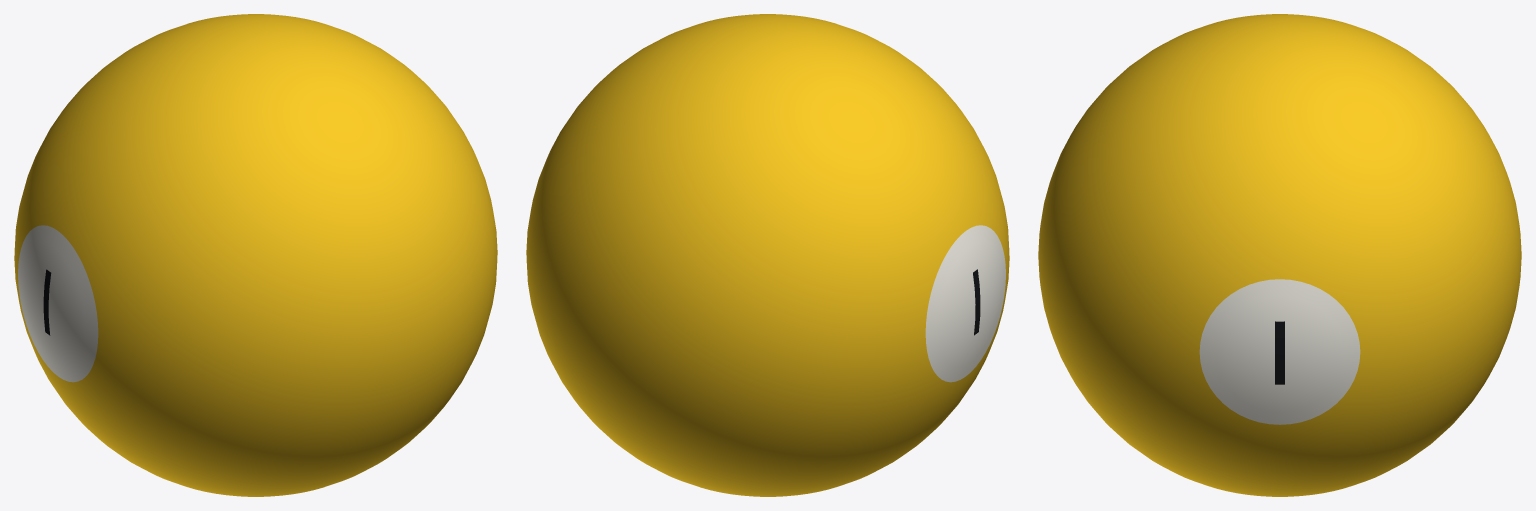
File: ball_01.glb
3 renders of one model, left to right at view 1: azimuth 30°, elevation 25°; view 2: azimuth 150°, elevation 25°; view 3: azimuth 270°, elevation 25°, orthographic.
Parts seen in each view (by area): view 1: Ball 01 | resin, Ball 01 | number medallion | opposite; view 2: Ball 01 | resin, Ball 01 | number medallion | opposite; view 3: Ball 01 | resin, Ball 01 | number medallion, Ball 01 | numeral 1.
Part boxes in pixels (x1,y1,x2,y2): Ball 01 | resin: [14, 14, 497, 496]; Ball 01 | number medallion | opposite: [18, 225, 98, 382]; Ball 01 | resin: [526, 14, 1009, 496]; Ball 01 | number medallion | opposite: [925, 225, 1005, 382]; Ball 01 | resin: [1038, 14, 1521, 496]; Ball 01 | number medallion: [1199, 279, 1360, 424]; Ball 01 | numeral 1: [1275, 321, 1284, 384].
Size of the model in its own units: 0.0573 by 0.0571 by 0.0571.
